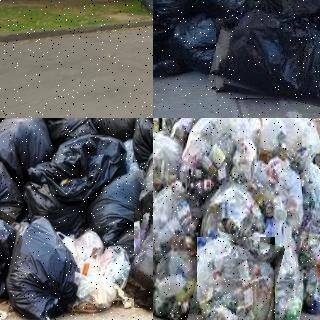Garbage: (212, 10, 320, 106), (22, 134, 123, 213), (191, 233, 280, 320), (5, 217, 76, 319), (177, 118, 262, 196), (64, 232, 130, 312), (167, 11, 244, 75), (202, 186, 266, 258), (153, 231, 203, 320), (153, 181, 206, 260), (259, 118, 320, 164), (128, 204, 153, 312), (209, 0, 295, 25), (153, 129, 187, 182), (297, 164, 320, 233), (302, 226, 320, 313), (91, 118, 140, 136), (139, 0, 153, 16)
